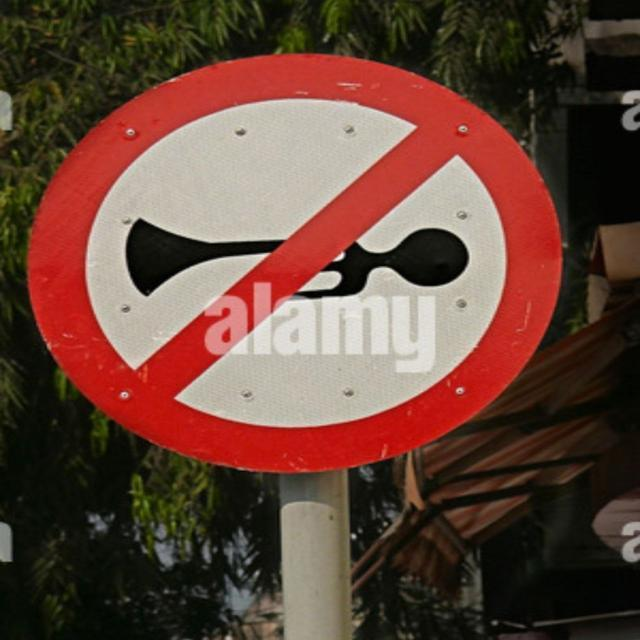horn prohibited: (23, 53, 569, 474)
